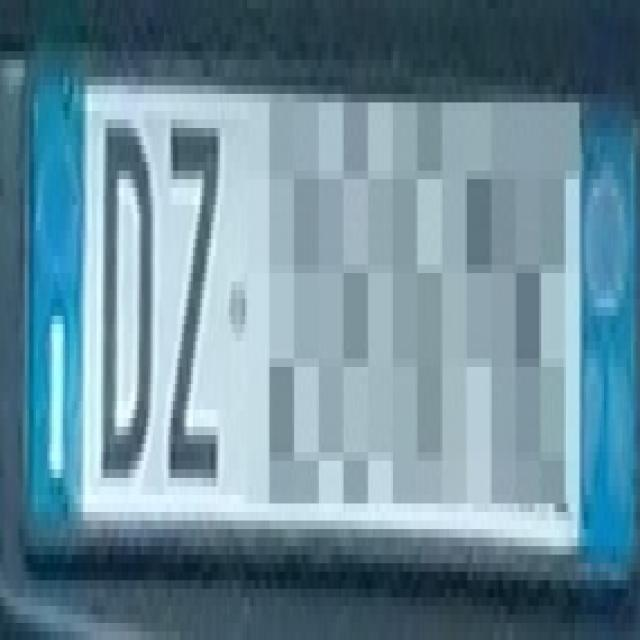licenseplate: (7, 0, 621, 610)
